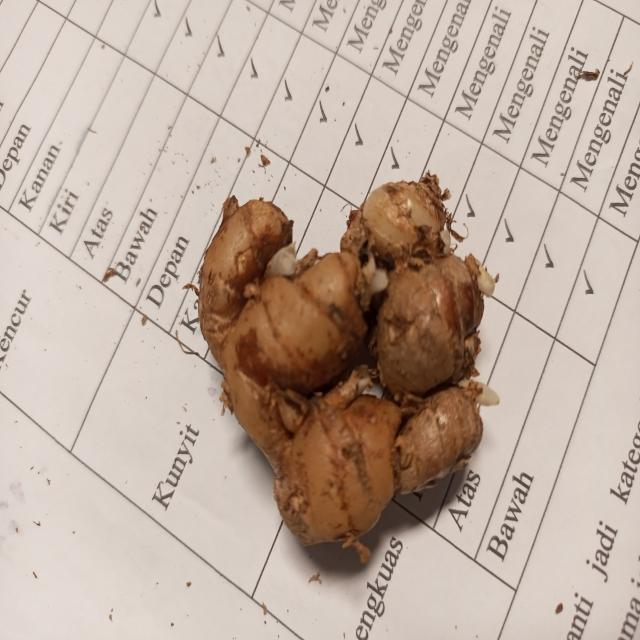ginger: (202, 188, 464, 530)
